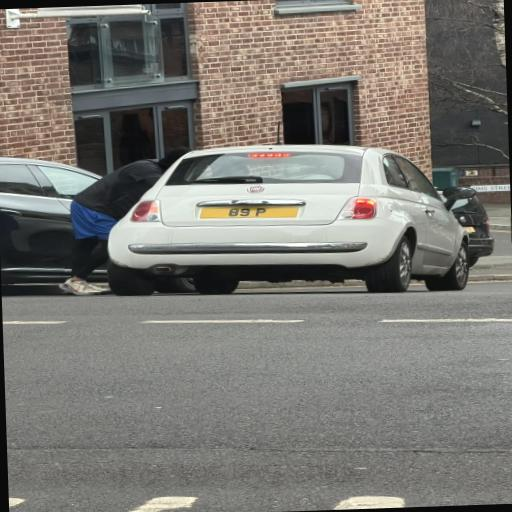numberplates: (200, 206, 298, 218), (465, 227, 476, 232)
